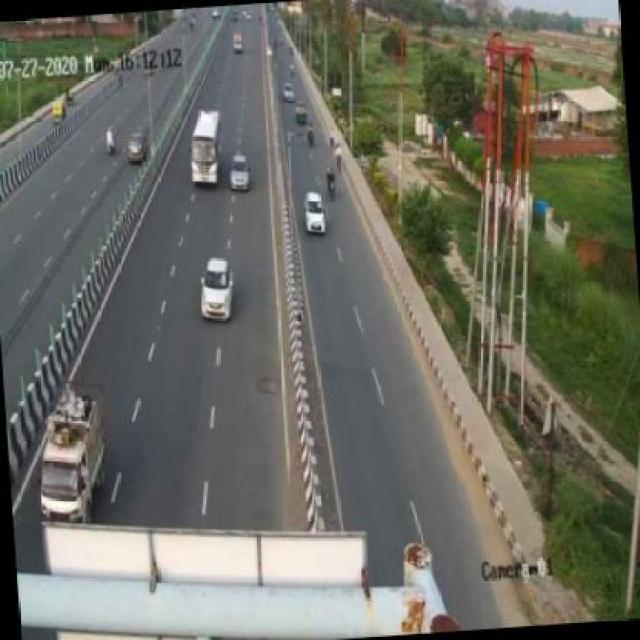car: (25, 372, 117, 525), (197, 252, 241, 330), (118, 128, 154, 166), (304, 192, 328, 237), (230, 151, 252, 192)
